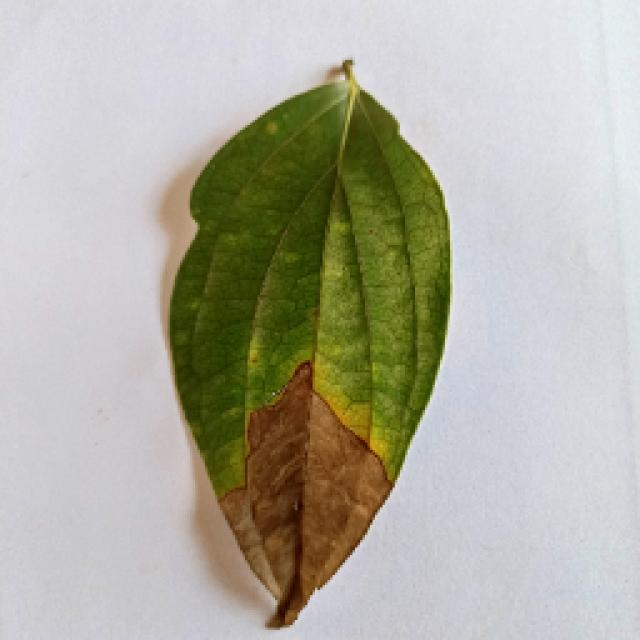footrot: (165, 70, 450, 625)
